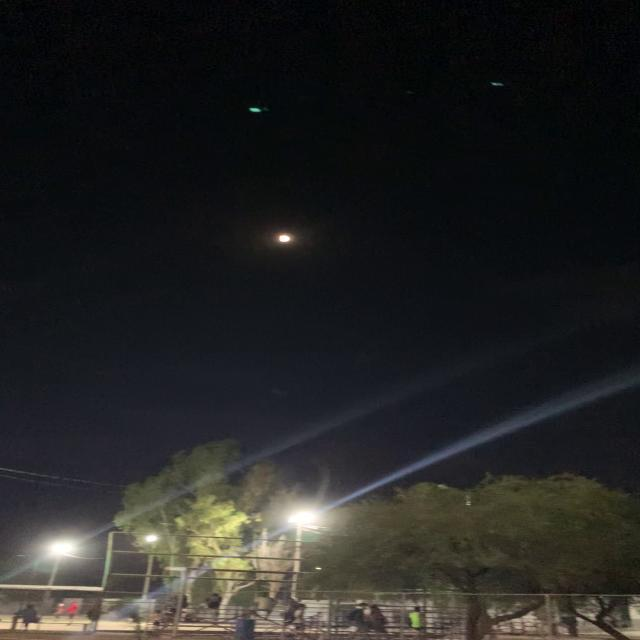moon: (278, 232, 297, 251)
